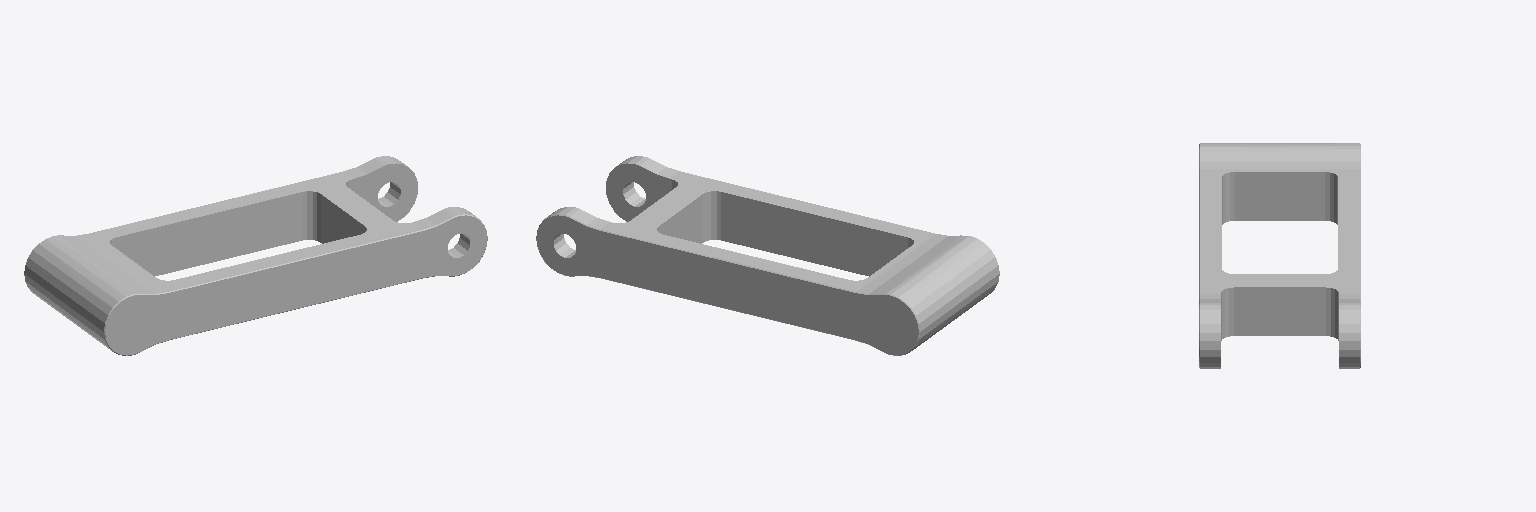
File: gripper_link10.obj
The picture shows the model from 3 angles: view 1: azimuth 30°, elevation 25°; view 2: azimuth 150°, elevation 25°; view 3: azimuth 270°, elevation 25°; orthographic projection.
Visible parts, largest first — view 1: default; view 2: default; view 3: default.
Part boxes in pixels (x1,y1,x2,y2): default: (24,156,487,355); default: (536,156,999,355); default: (1199,143,1360,368).
Size of the model in its own units: 0.0495 by 0.0075 by 0.018.